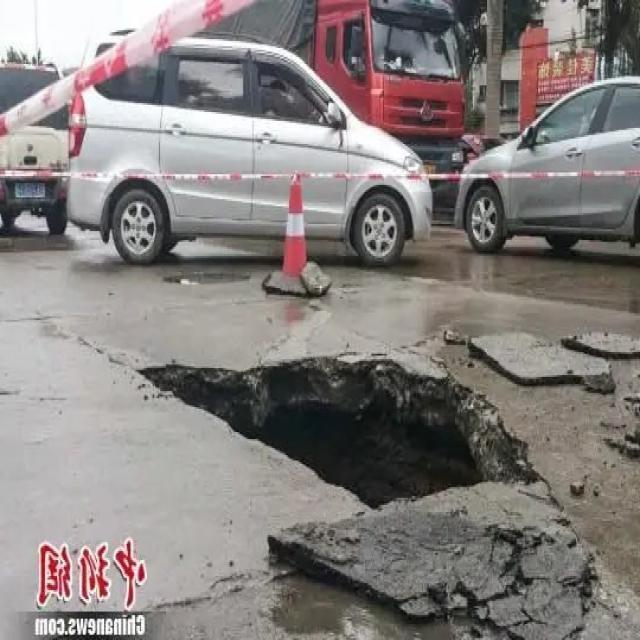pothole: (131, 351, 537, 509)
